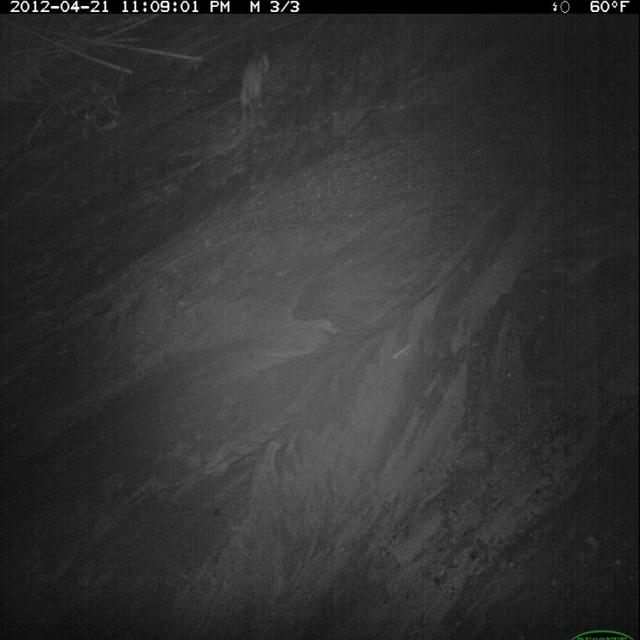opossum: (236, 42, 274, 136)
